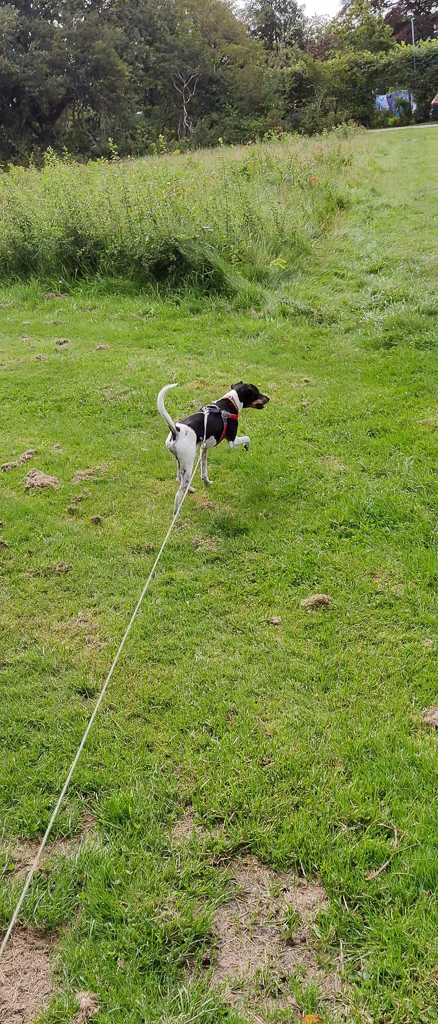Dog: (144, 374, 287, 525)
